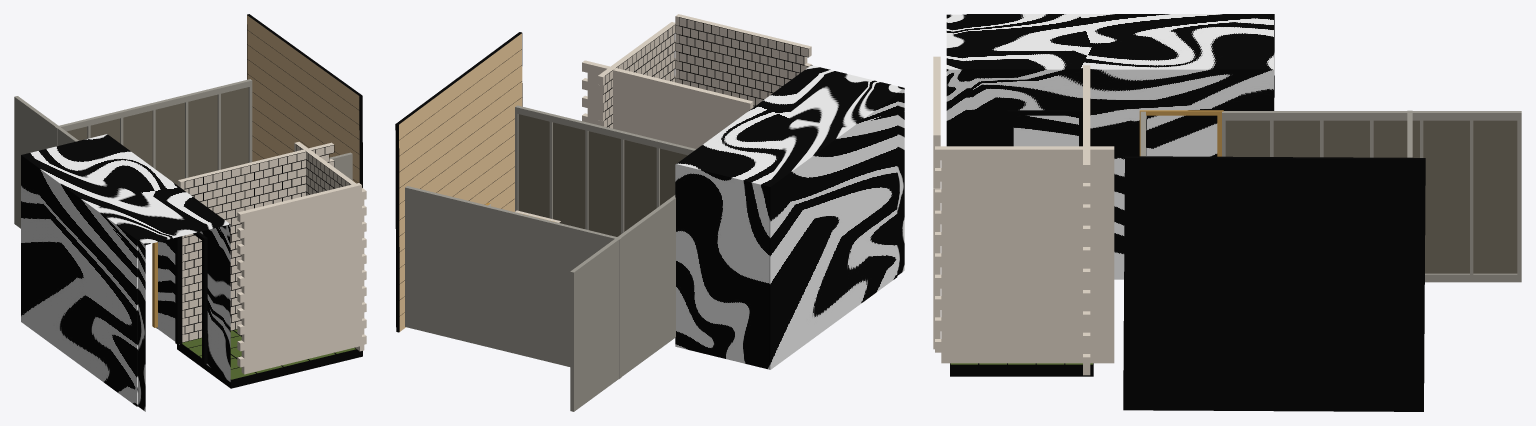
The model's file is Renovations2.glb.
The picture shows the model from 3 angles, left to right: view 1: azimuth 30°, elevation 25°; view 2: azimuth 150°, elevation 25°; view 3: azimuth 270°, elevation 25°; orthographic projection. The views are drawn at different scales.
Visible parts, largest first — view 1: Cube.001, bricks.002, Cube.018, Cube.188, bricks.003, Cube.019, Cube.189, bricks.001, Cube, Cube.184, Cube.194; view 2: Cube.001, Cube.188, Cube.018, Cube.194, Cube.189, bricks.002, bricks.003, bricks.001; view 3: Cube.018, Cube.001, bricks.001, Cube.189, bricks.003, Cube.019, bricks.002, Cube, Cube.184.
Part boxes in pixels (x1,y1,x2,y2): Cube.001: (21,134,230,411); bricks.002: (237,183,361,374); Cube.018: (247,14,362,187); Cube.188: (55,79,252,185); bricks.003: (178,142,334,342); Cube.019: (177,329,362,388); Cube.189: (14,96,78,228); bricks.001: (294,142,366,351); Cube: (175,232,207,364); Cube.184: (152,242,157,327); Cube.194: (156,152,352,328); Cube.001: (675,65,904,369); Cube.188: (405,186,621,378); Cube.018: (395,32,522,332); Cube.194: (515,105,696,236); Cube.189: (570,195,675,411); bricks.002: (675,14,811,107); bricks.003: (582,60,753,148); bricks.001: (597,22,675,128); Cube.018: (1123,156,1425,411); Cube.001: (946,14,1274,279); bricks.001: (935,146,1114,363); Cube.189: (1222,111,1521,282); bricks.003: (1083,65,1090,375); Cube.019: (950,363,1093,376); bricks.002: (933,56,940,349); Cube: (1007,110,1082,146); Cube.184: (1139,110,1223,156).
Size of the model in its own units: 5.65 by 3.74 by 7.6.
Materials: 2 (2 with a texture image).
